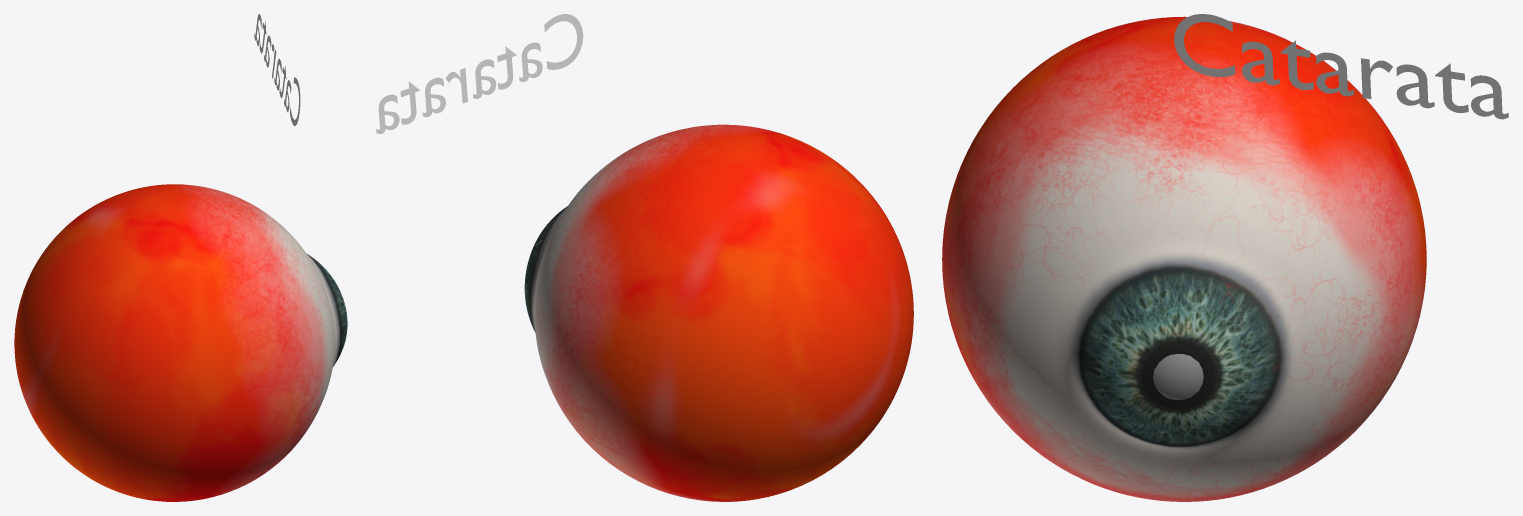
File: Catarata.fbx
3 renders of one model, left to right at view 1: azimuth 30°, elevation 25°; view 2: azimuth 150°, elevation 25°; view 3: azimuth 270°, elevation 25°, orthographic. The views are drawn at different scales.
Parts seen in each view (by area): view 1: CORNEA_Catarata, Catarata_Texto; view 2: CORNEA_Catarata, Catarata_Texto; view 3: CORNEA_Catarata, Catarata_Texto, Catarata_Object.
Boxes of the visible parts, x1=… form: CORNEA_Catarata: x1=14, y1=184, x2=347, y2=501; Catarata_Texto: x1=254, y1=14, x2=300, y2=125; CORNEA_Catarata: x1=524, y1=124, x2=913, y2=501; Catarata_Texto: x1=376, y1=14, x2=583, y2=133; CORNEA_Catarata: x1=942, y1=16, x2=1426, y2=501; Catarata_Texto: x1=1174, y1=14, x2=1508, y2=119; Catarata_Object: x1=1153, y1=354, x2=1203, y2=400.
Size of the model in its own units: 234 by 252 by 231.
